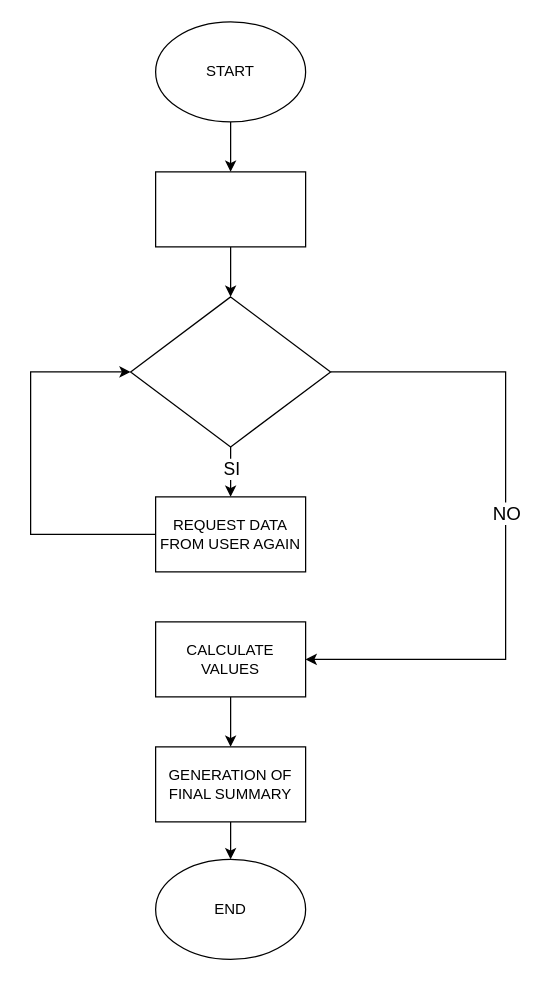
This 543x981 diagram has some shape labels left out. Here are the shapes that lost their labels. From the top down, the box of each, then its label:
(154, 171, 306, 247): ENTER DATA INTO VARIABLES
(129, 296, 331, 447): Would you like to continue registering products?
